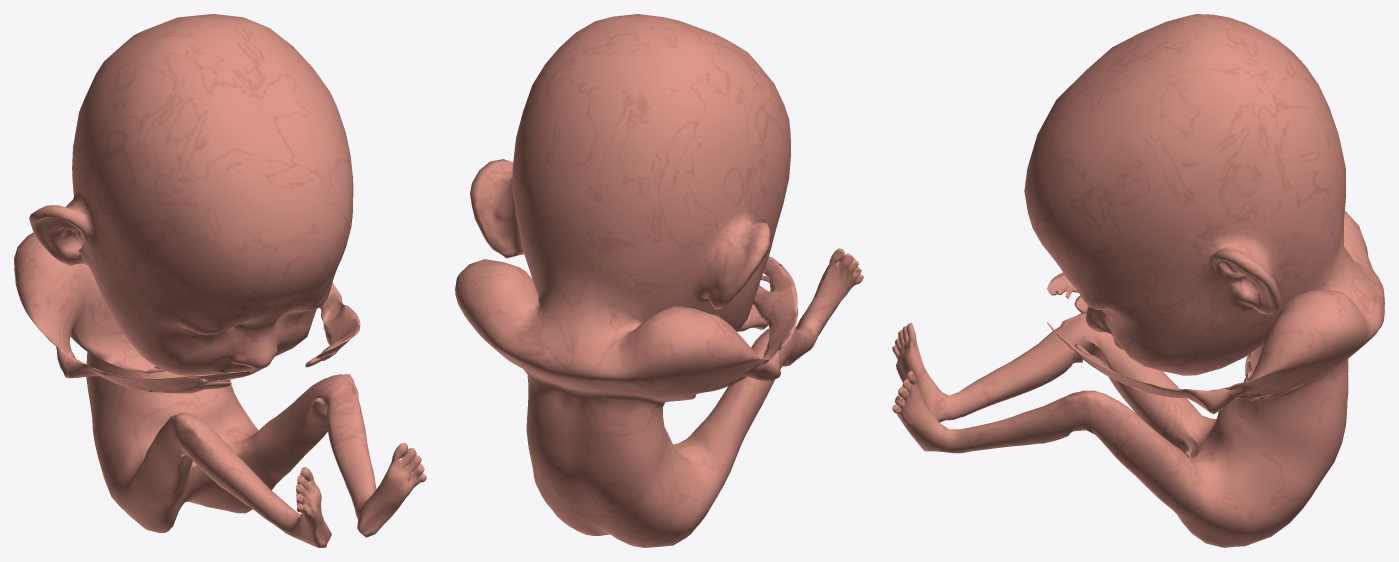
The picture shows the model from 3 angles, left to right: view 1: azimuth 30°, elevation 25°; view 2: azimuth 150°, elevation 25°; view 3: azimuth 270°, elevation 25°; orthographic projection.
Visible parts, largest first — view 1: Baby; view 2: Baby; view 3: Baby.
Part boxes in pixels (x1,y1,x2,y2): Baby: (14,14,426,547); Baby: (455,14,863,547); Baby: (892,14,1384,547).
Size of the model in its own units: 0.0206 by 0.0337 by 0.0301.
Materials: 1 (1 with a texture image).
